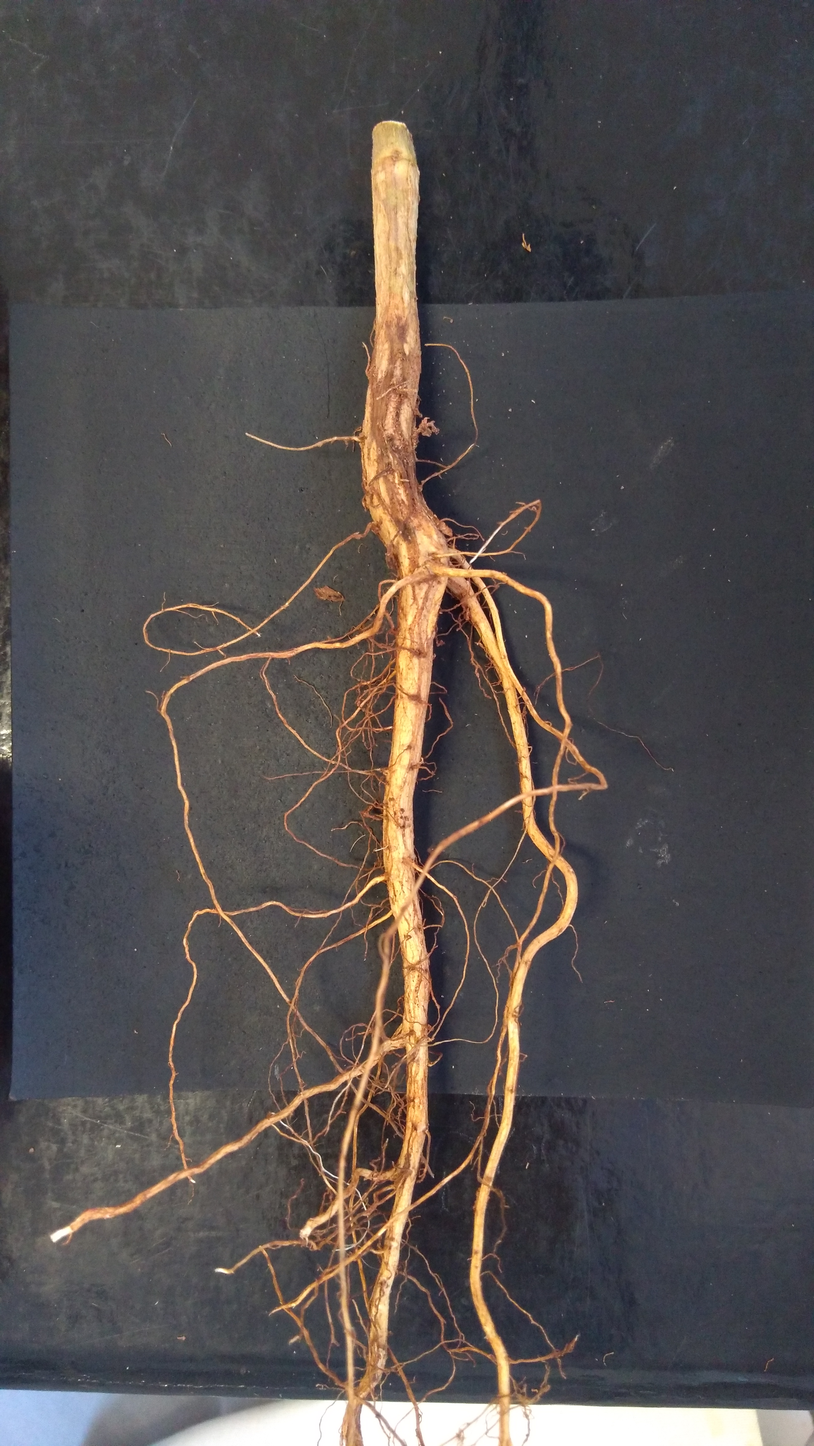nodule: (436, 521, 453, 538), (427, 1024, 434, 1031)
